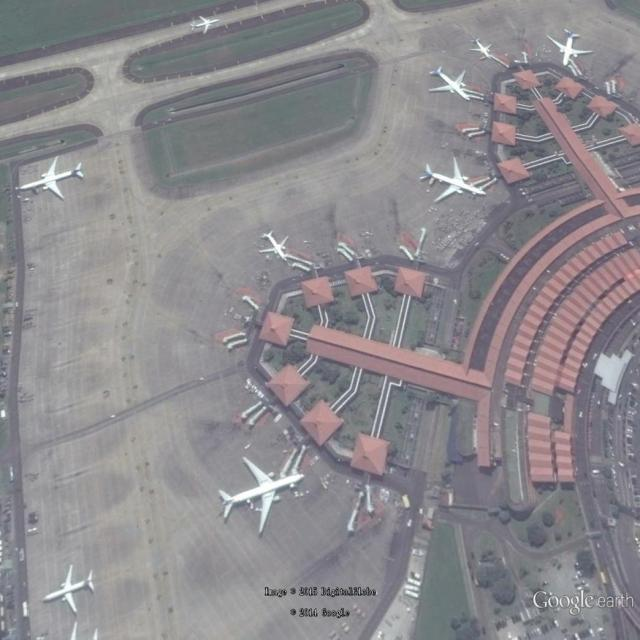aircraft: (218, 457, 308, 538), (15, 153, 86, 202), (418, 158, 489, 204), (44, 563, 96, 617), (546, 27, 595, 69), (428, 67, 473, 102), (258, 231, 291, 263), (190, 12, 223, 36), (467, 36, 495, 63)
